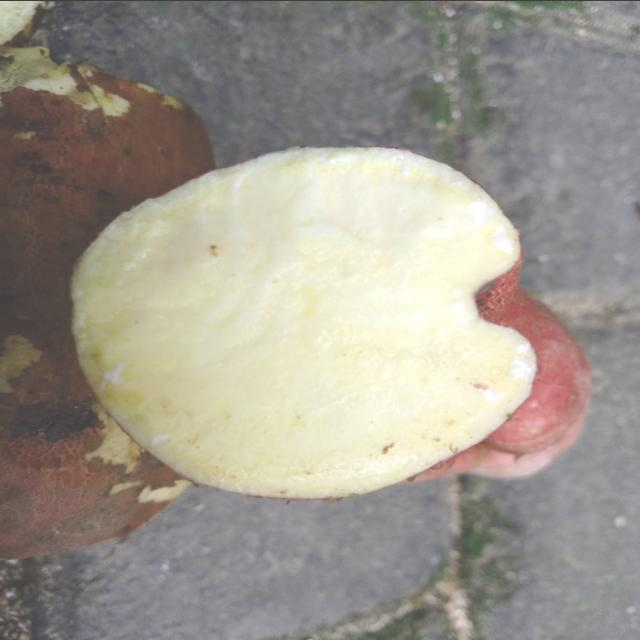Healthy Sweet Potato: (72, 146, 537, 498)
